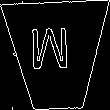M_S: (36, 29, 78, 82)
